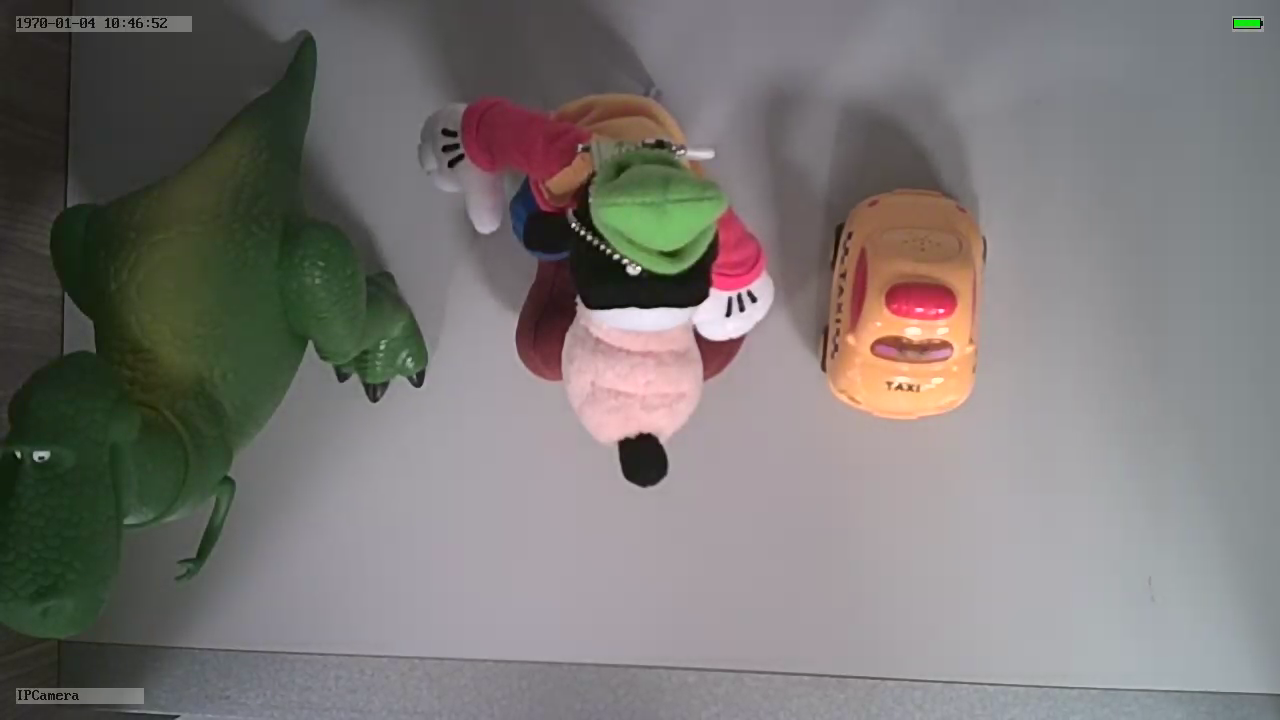goofy: (415, 86, 779, 486)
